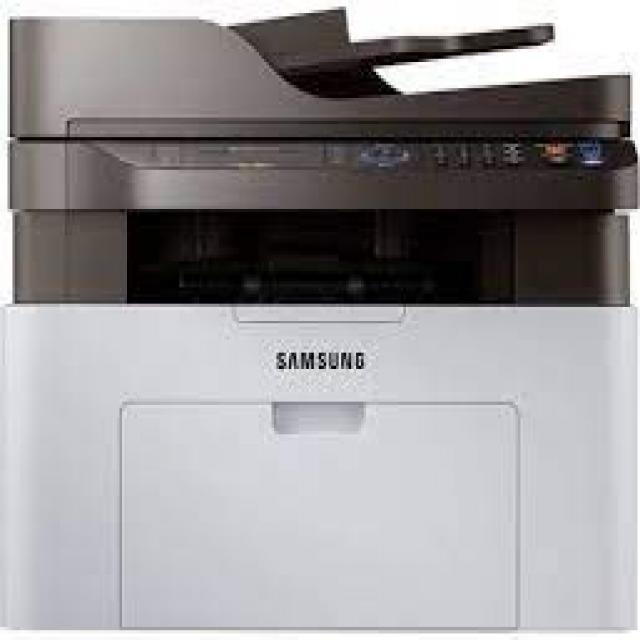printer: (1, 5, 638, 640)
